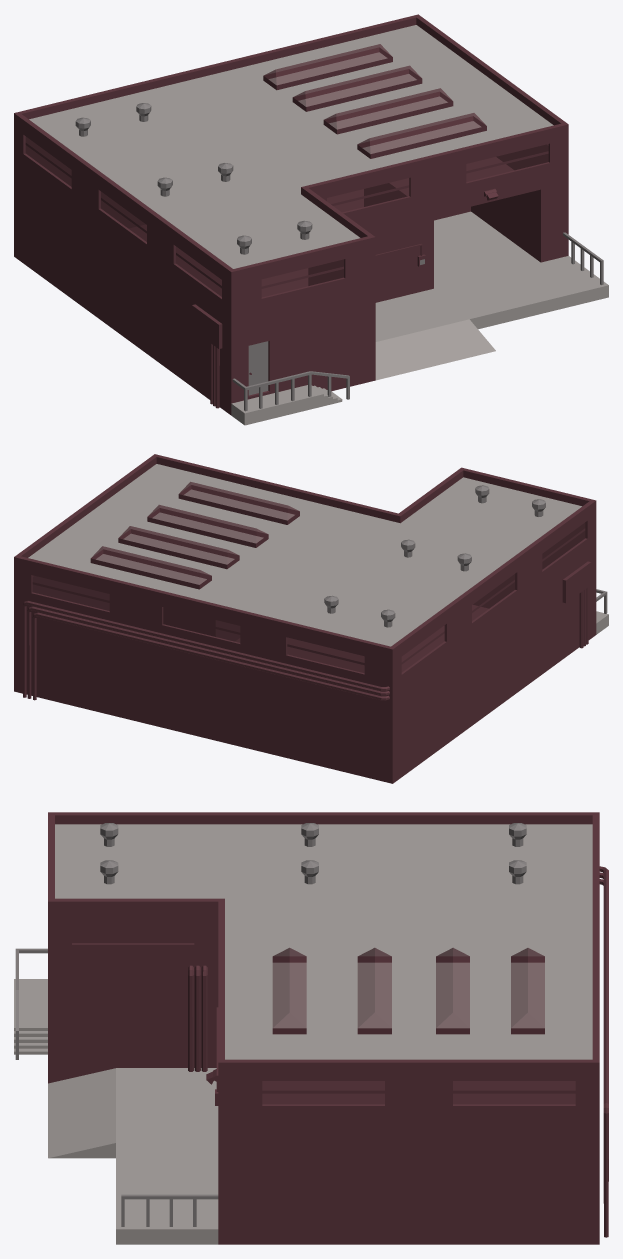
The model's file is industry-warehouse.fbx.
The picture shows the model from 3 angles, top to bottom: view 1: azimuth 30°, elevation 25°; view 2: azimuth 150°, elevation 25°; view 3: azimuth 270°, elevation 25°; orthographic projection. The views are drawn at different scales.
Visible parts, largest first — view 1: industry-warehouse; view 2: industry-warehouse; view 3: industry-warehouse.
Part boxes in pixels (x1=…): industry-warehouse: x1=14, y1=14, x2=608, y2=425; industry-warehouse: x1=14, y1=454, x2=608, y2=783; industry-warehouse: x1=14, y1=812, x2=608, y2=1244.
Bounding box in the file's own units: 17.55 × 6.3 × 17.48.
